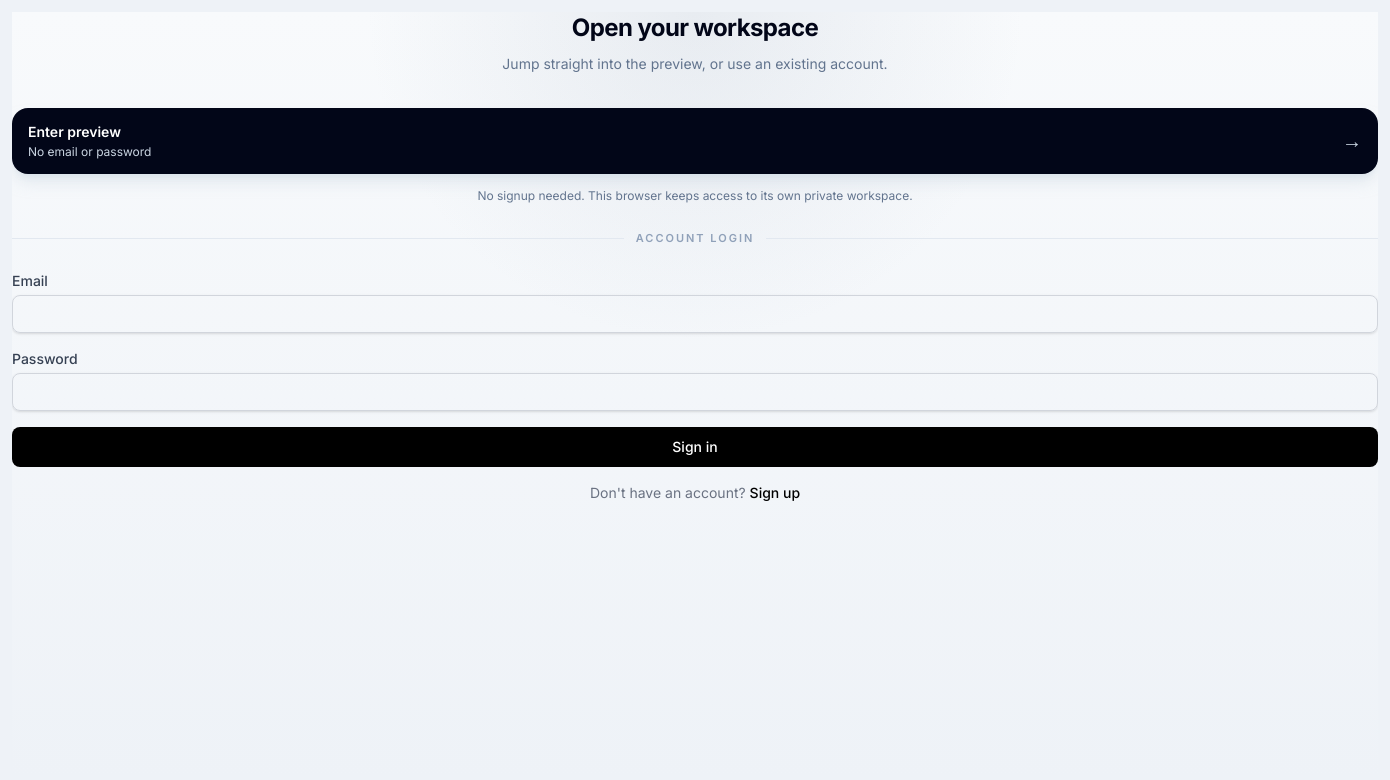
Test: LoginForm › submission › displays success message after successful login
Type "user@example.com" into the field labelled "Email" at (695, 314), box [12,294,1378,332]
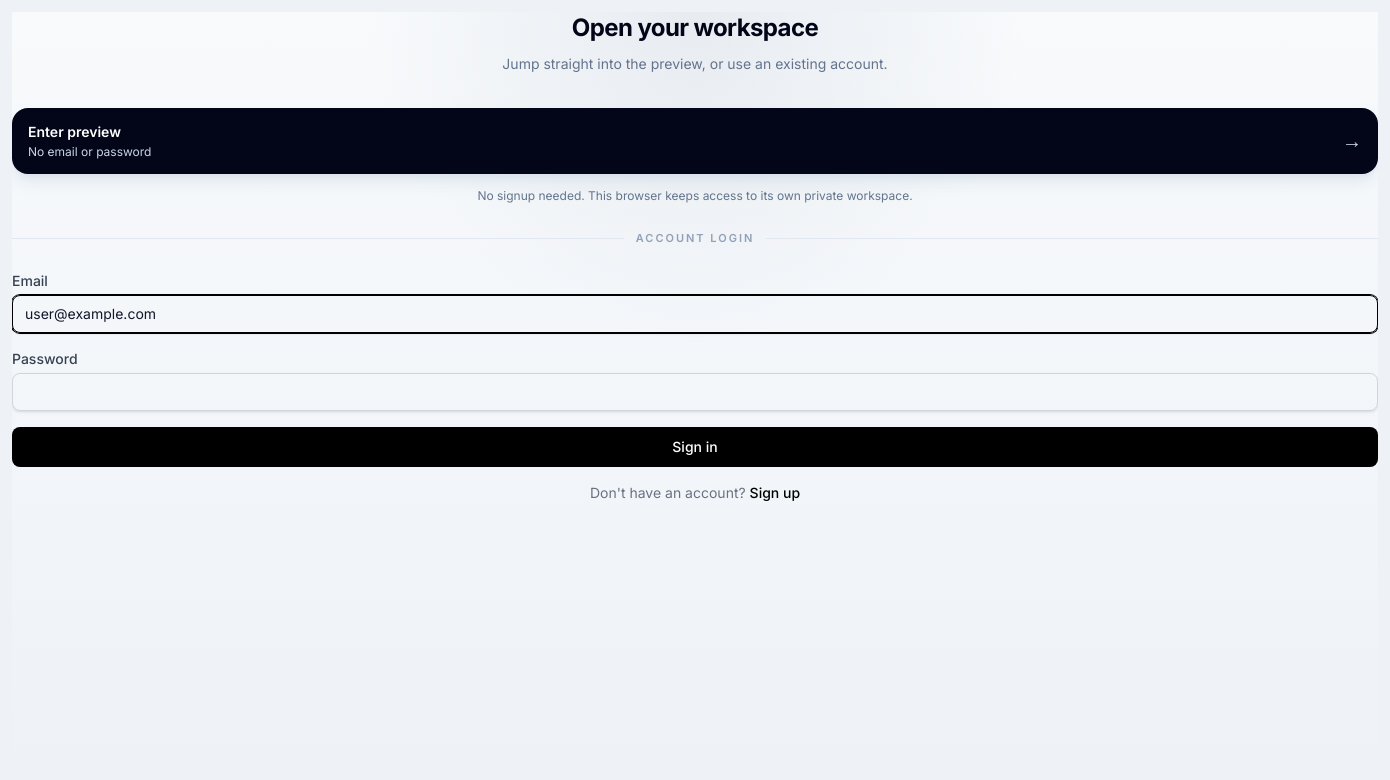
Type "mypassword" into the password field labelled "Password" at (695, 392), box [12,372,1378,410]
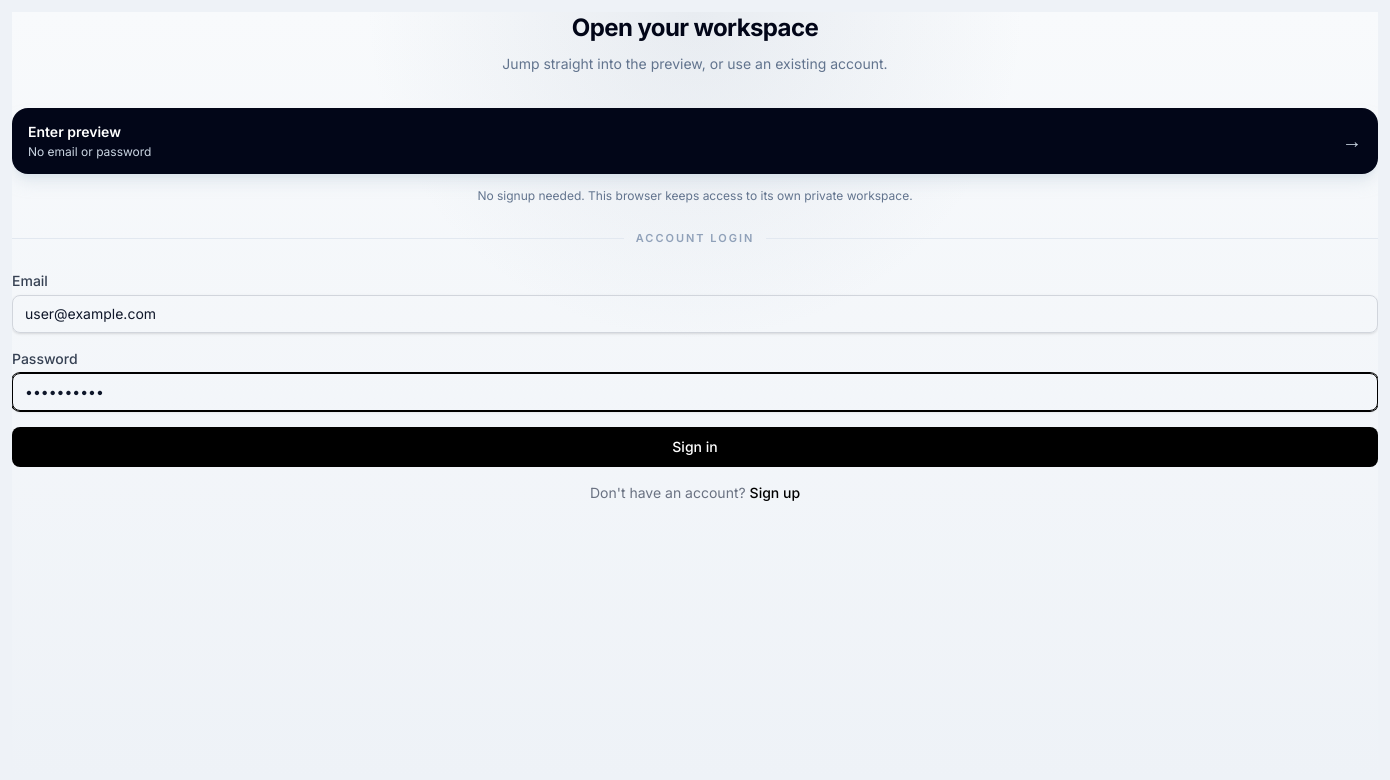
Click the button "Sign in" at (695, 446), box [12,426,1378,466]
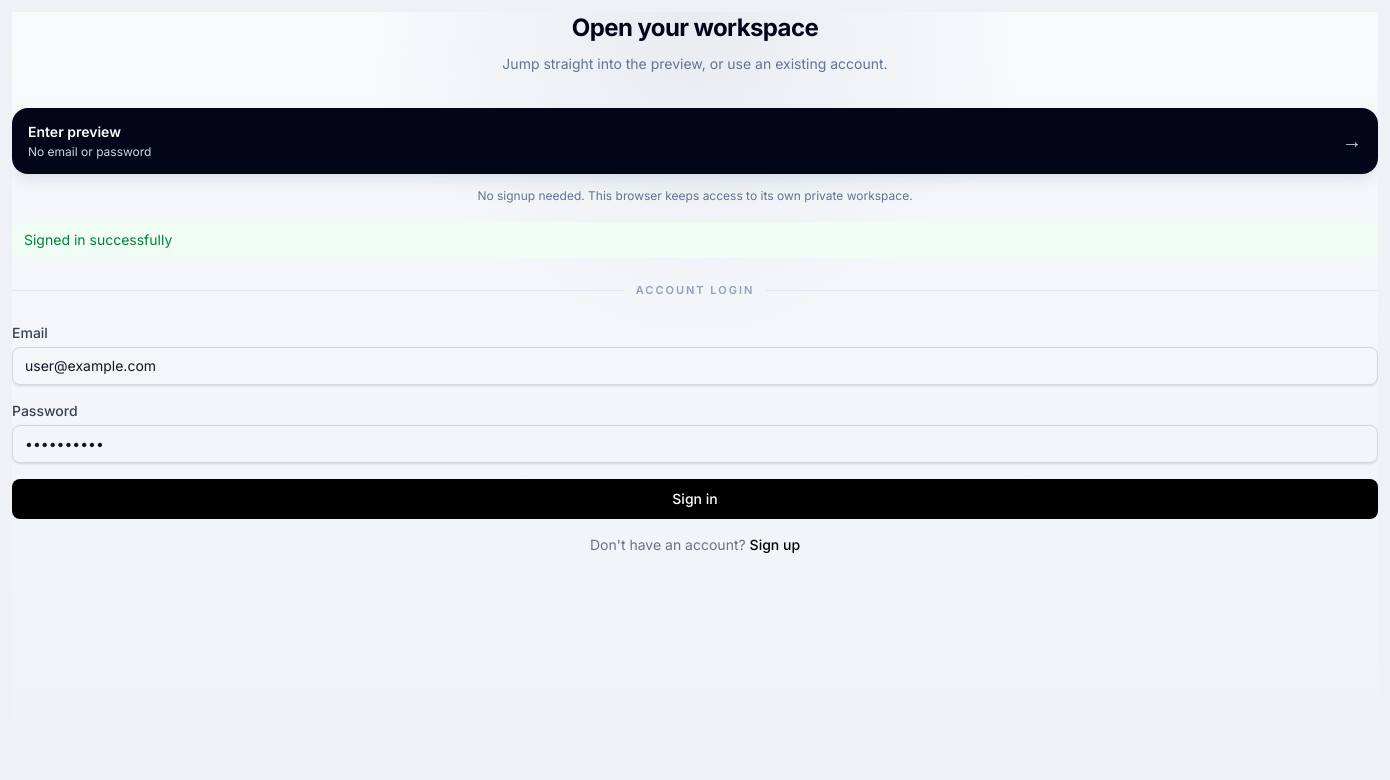
Result: the message shows "Signed in" at [24,231,172,248]
